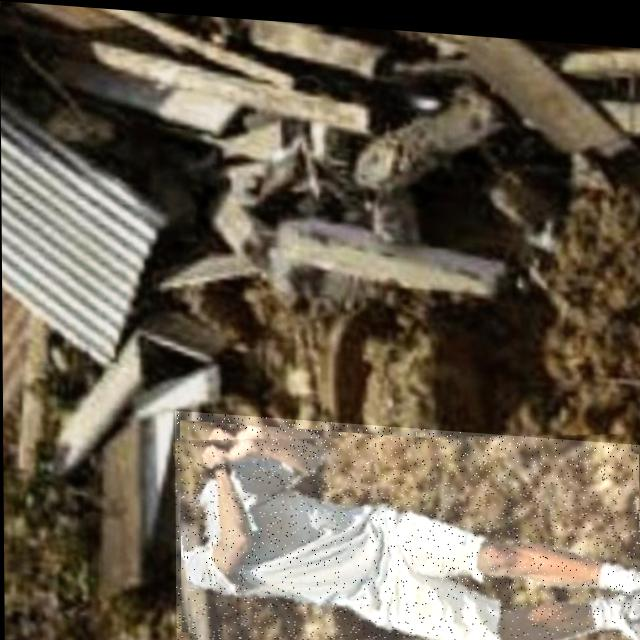Person in Rubble: (174, 407, 640, 640)
